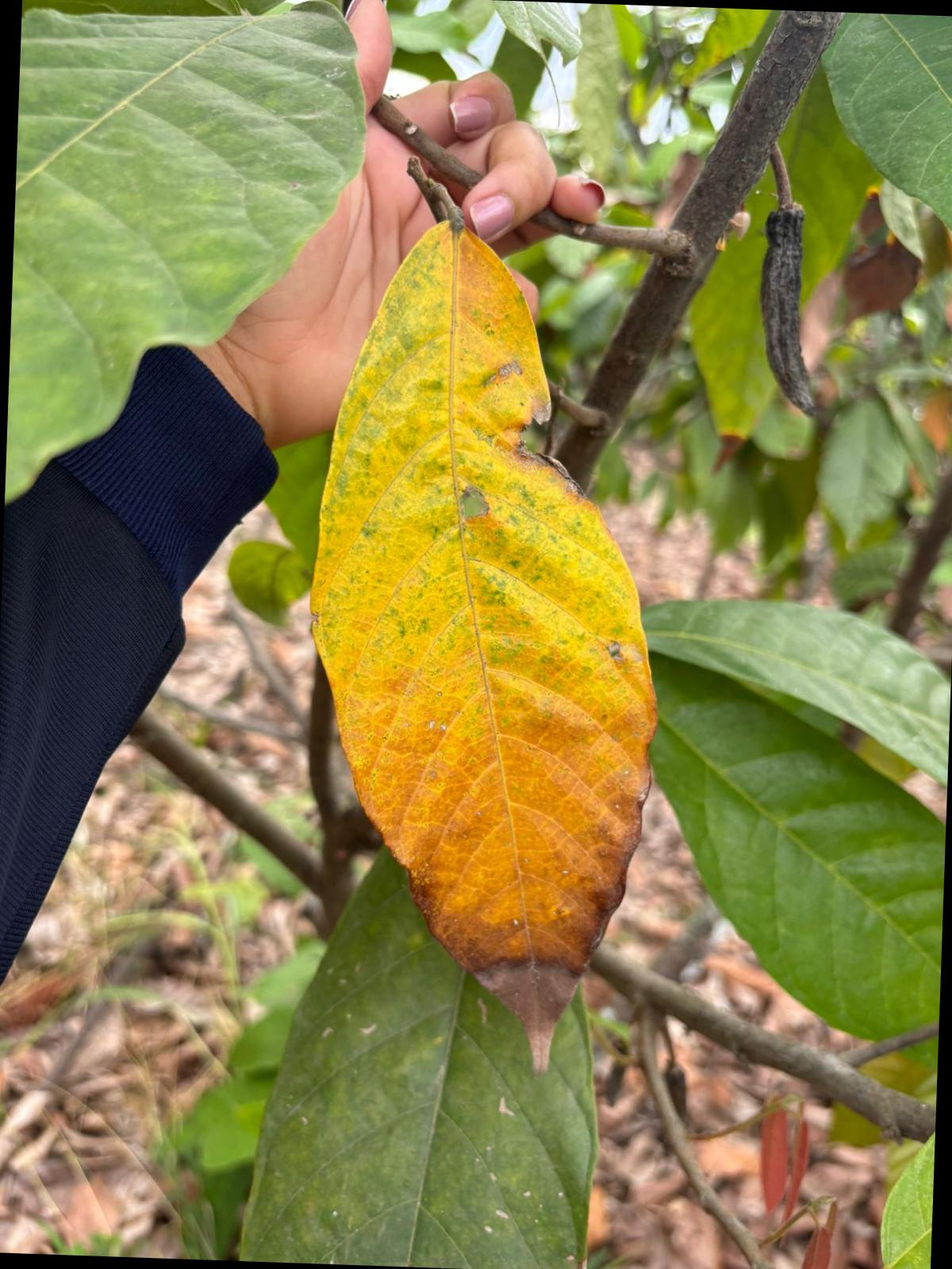Fosforo: (311, 223, 655, 1071)
